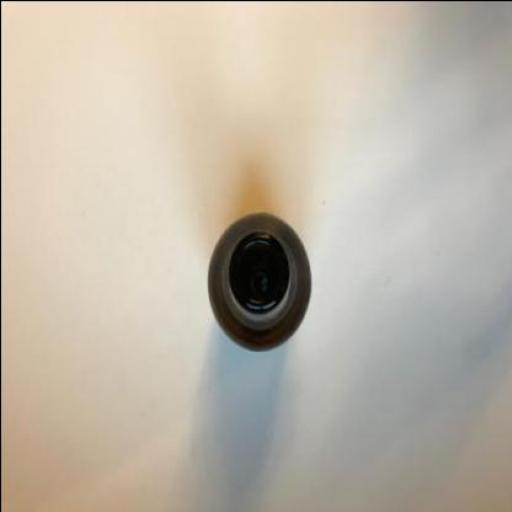glass: (206, 213, 310, 351)
